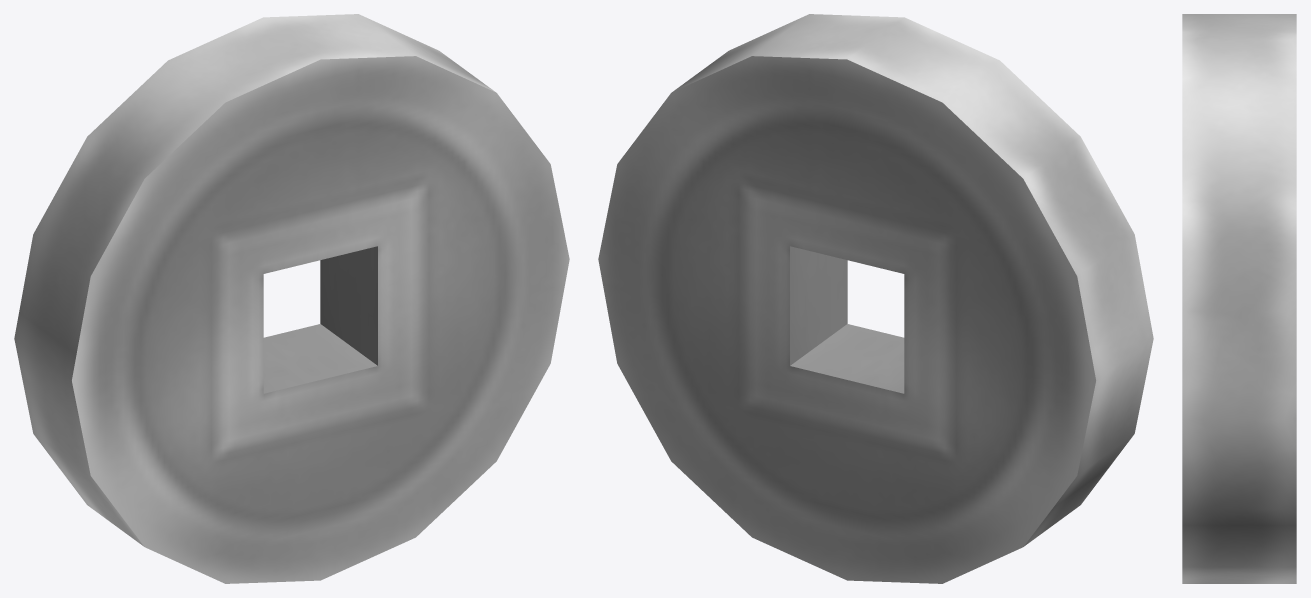
The model's file is Coin_Lucky.FBX.
The picture shows the model from 3 angles, left to right: view 1: azimuth 30°, elevation 25°; view 2: azimuth 150°, elevation 25°; view 3: azimuth 270°, elevation 25°; orthographic projection.
Parts seen in each view (by area): view 1: Coin_Lucky; view 2: Coin_Lucky; view 3: Coin_Lucky.
Part boxes in pixels (x1,y1,x2,y2): Coin_Lucky: (14, 14, 569, 583); Coin_Lucky: (598, 14, 1153, 583); Coin_Lucky: (1182, 14, 1296, 583).
Size of the model in its own units: 1 by 1 by 0.2.
